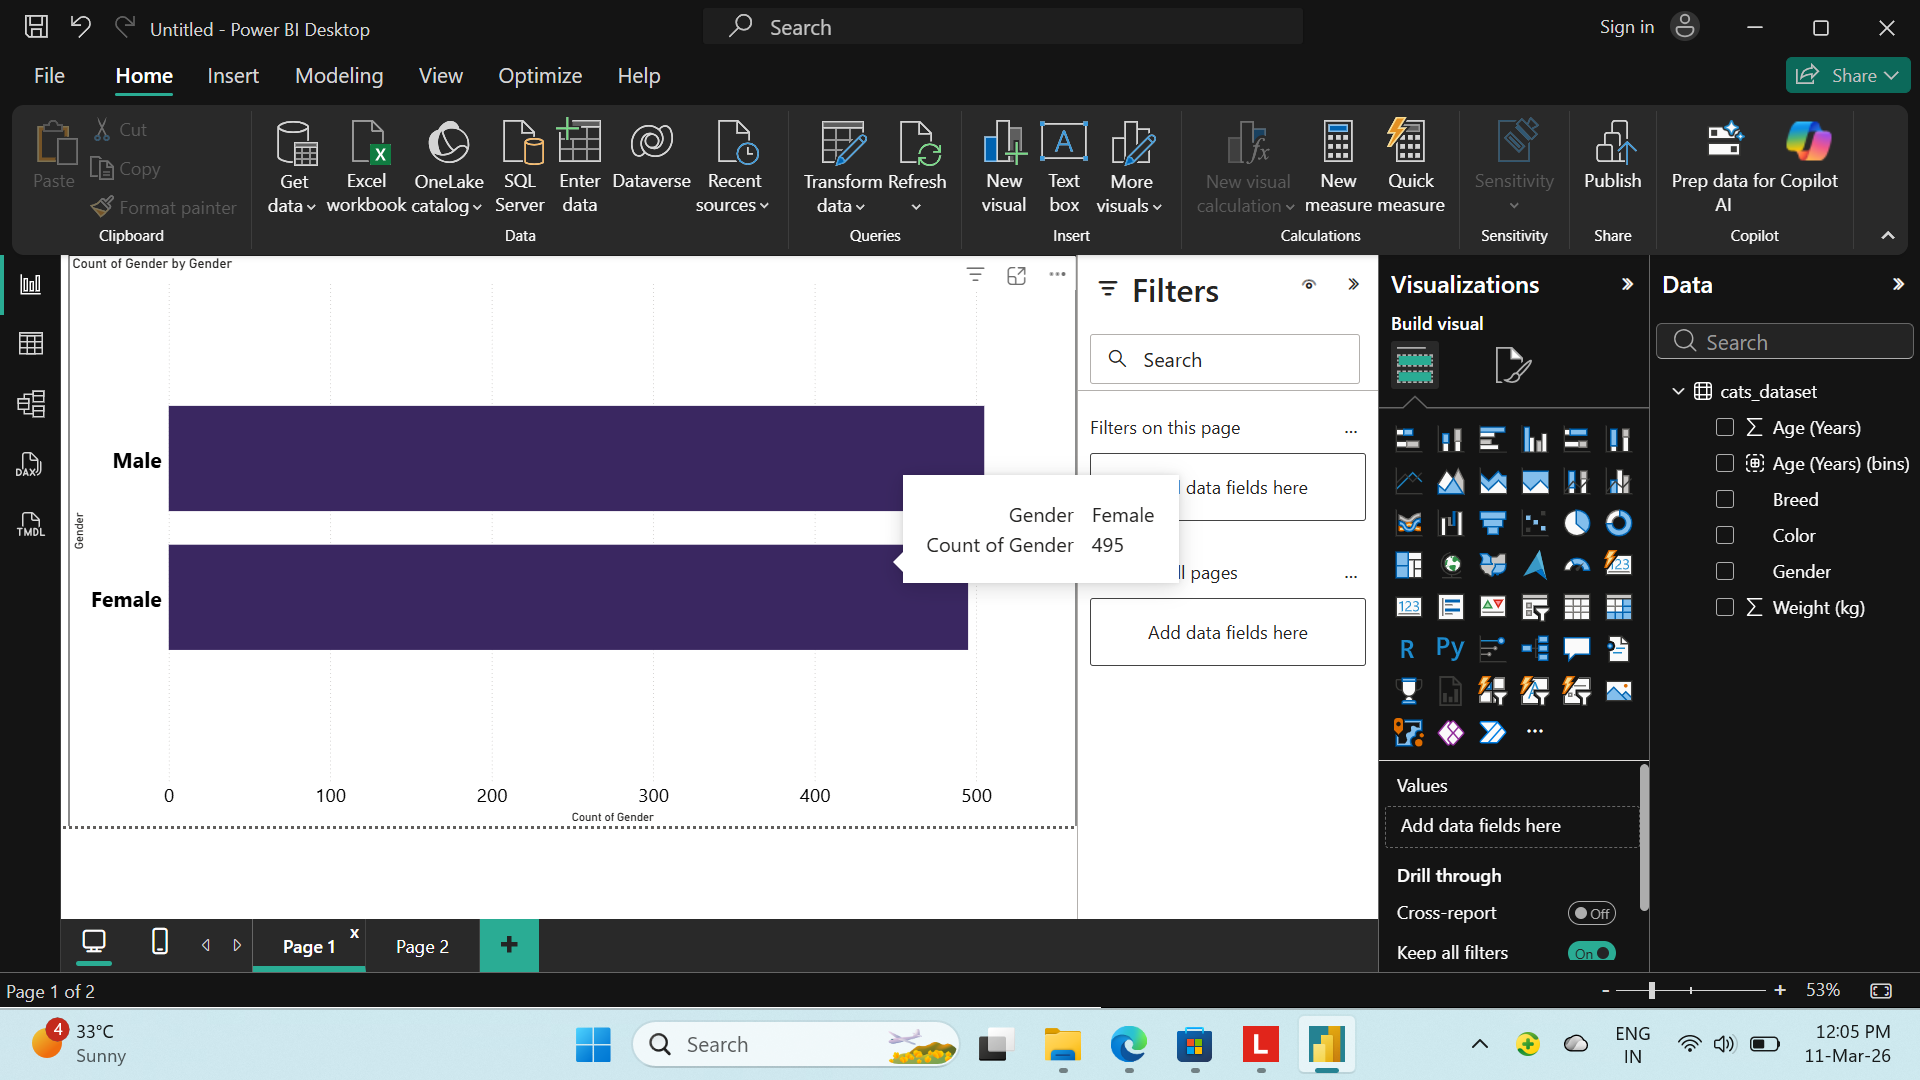

Layout of this report page (visuals, bound fields, positions):
{"tool":"powerbi","page":{"name":"Page 1","canvas":[1280,720],"ordinal":0},"visuals":[{"type":"barChart","fields":{"Category":["cats_dataset.Gender"],"Y":["CountNonNull(cats_dataset.Gender)"]},"box":[9.4,0,1269.9,720],"z":0}]}

Visuals, with their boxes on the page's 1280x720 design canvas (x1, y1, x2, y2). These are canvas units, not pixel positions in the 1920x1080 screenshot, which may show the page scaled, cropped or inside an application window:
barChart - cats_dataset.Gender x CountNonNull(cats_dataset.Gender): [9,0,1279,720]
